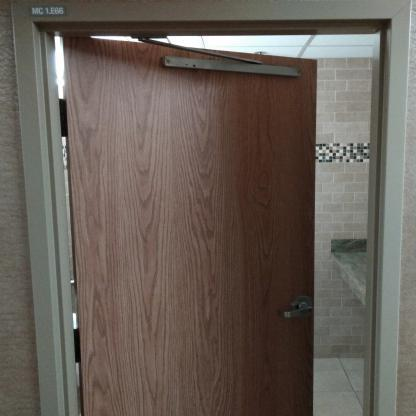door: (38, 32, 324, 415)
hinged: (57, 98, 71, 136), (72, 329, 86, 364)
lever: (278, 304, 314, 324)
